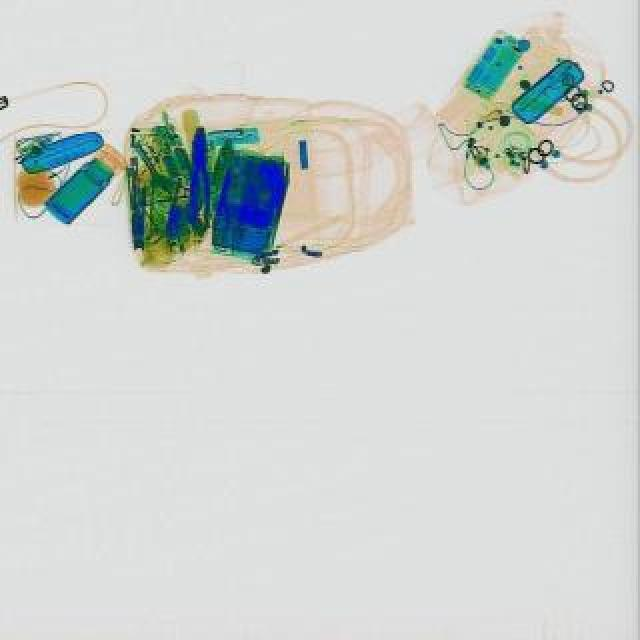wrench: (192, 128, 214, 230)
